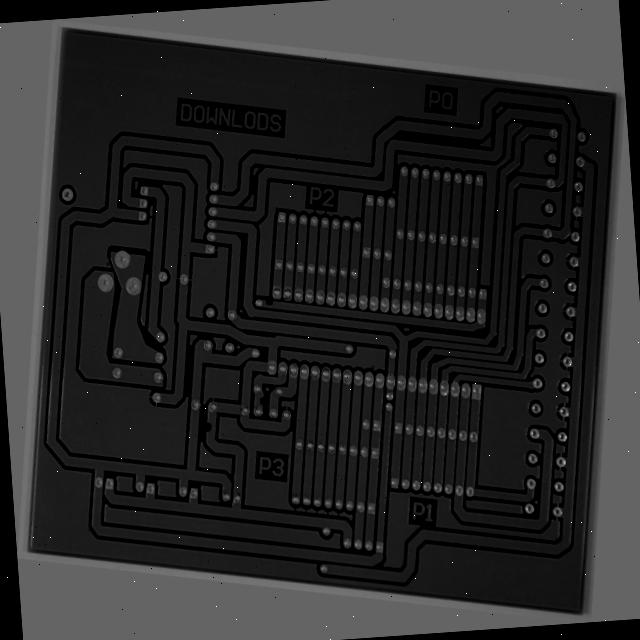mouse_bite: (206, 457, 222, 479), (248, 302, 270, 318), (262, 416, 272, 436)
